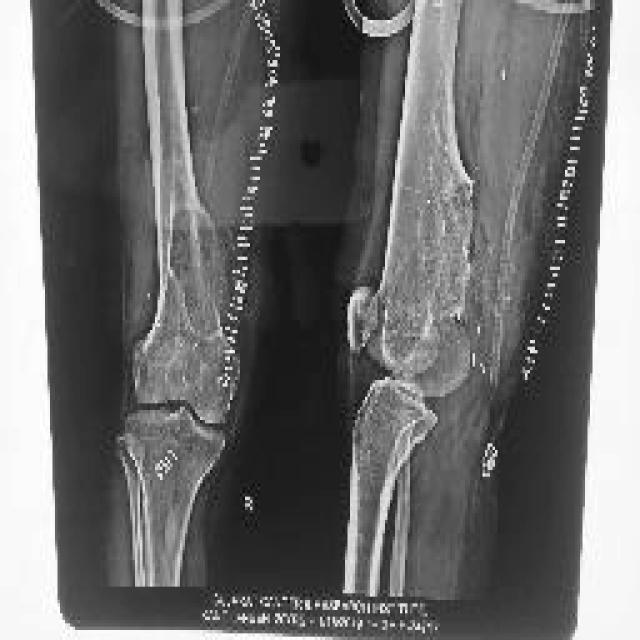bone-cancer: (402, 150, 492, 347), (166, 205, 230, 340)
